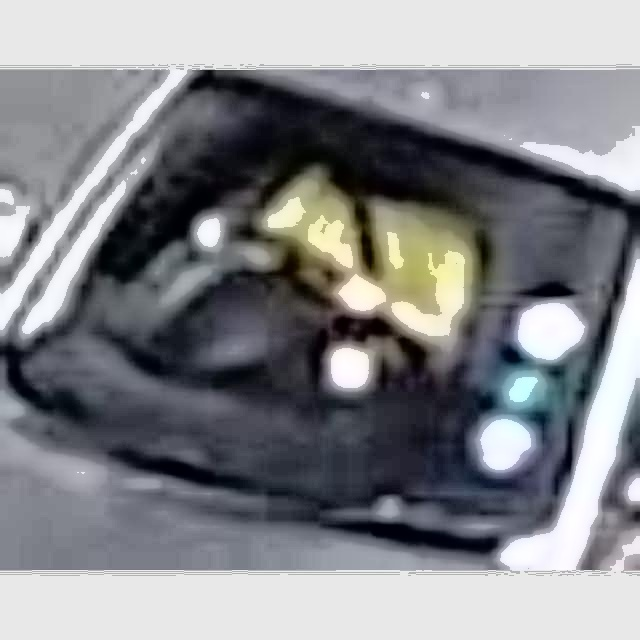pakai: (233, 150, 480, 430)
